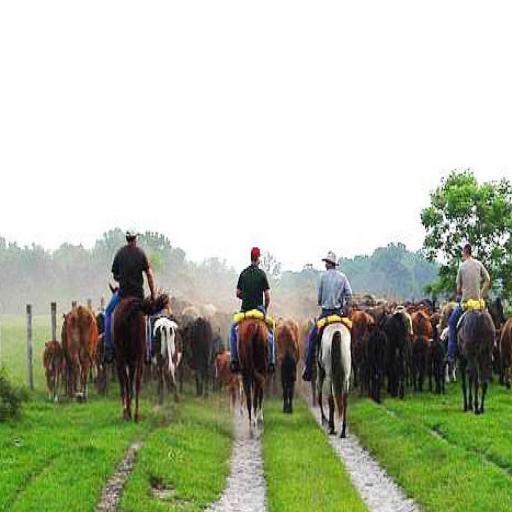horse: (42, 292, 512, 440), (107, 283, 171, 423), (440, 301, 496, 413), (233, 316, 273, 439), (316, 322, 350, 440)
